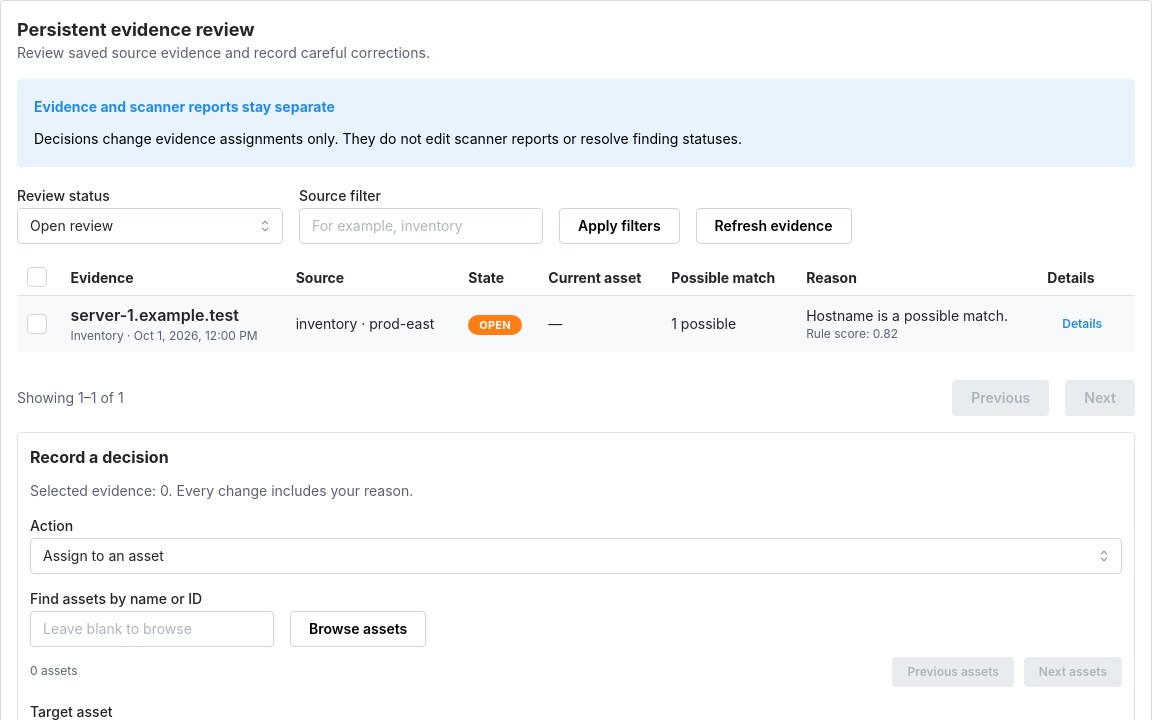
Scenario: PersistentReconciliation › reports stale decisions and does not retry them automatically
Check: the text "server-1.example.test" is shown, box [70,305,239,325]
Click the checkbox named "Select evidence from server-1.example.test".
click(37, 324)  # box [27,314,47,334]
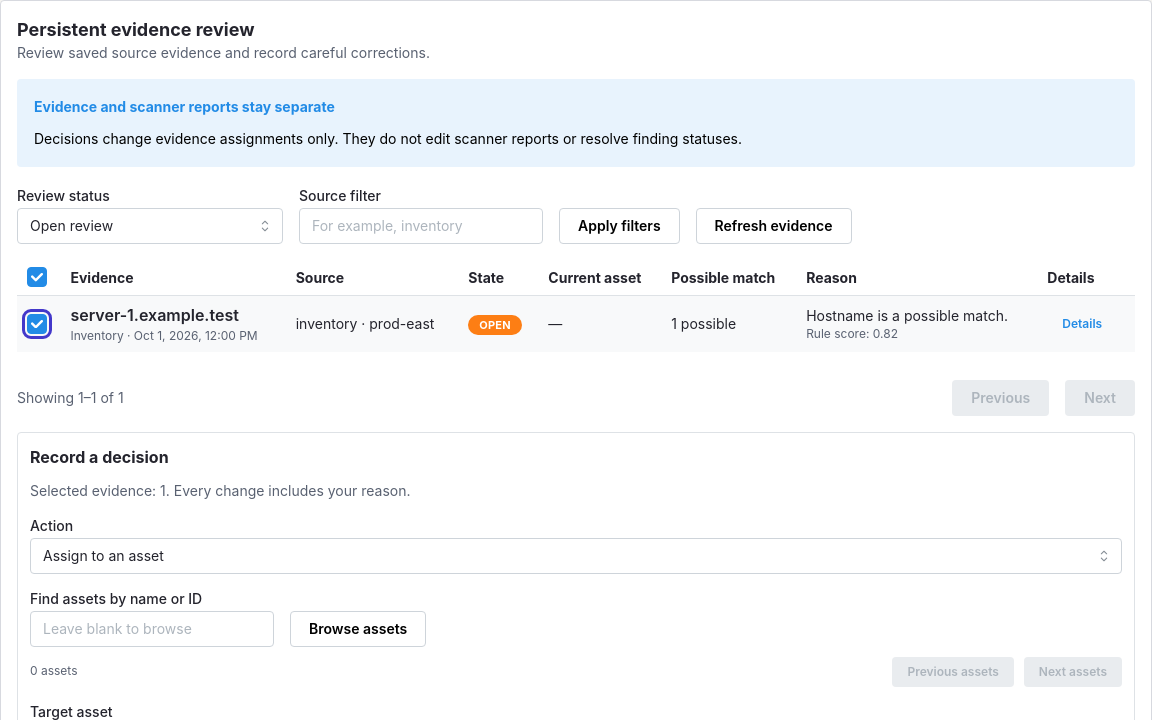
Click the field labelled "Action".
click(576, 556)  # box [30,538,1122,574]
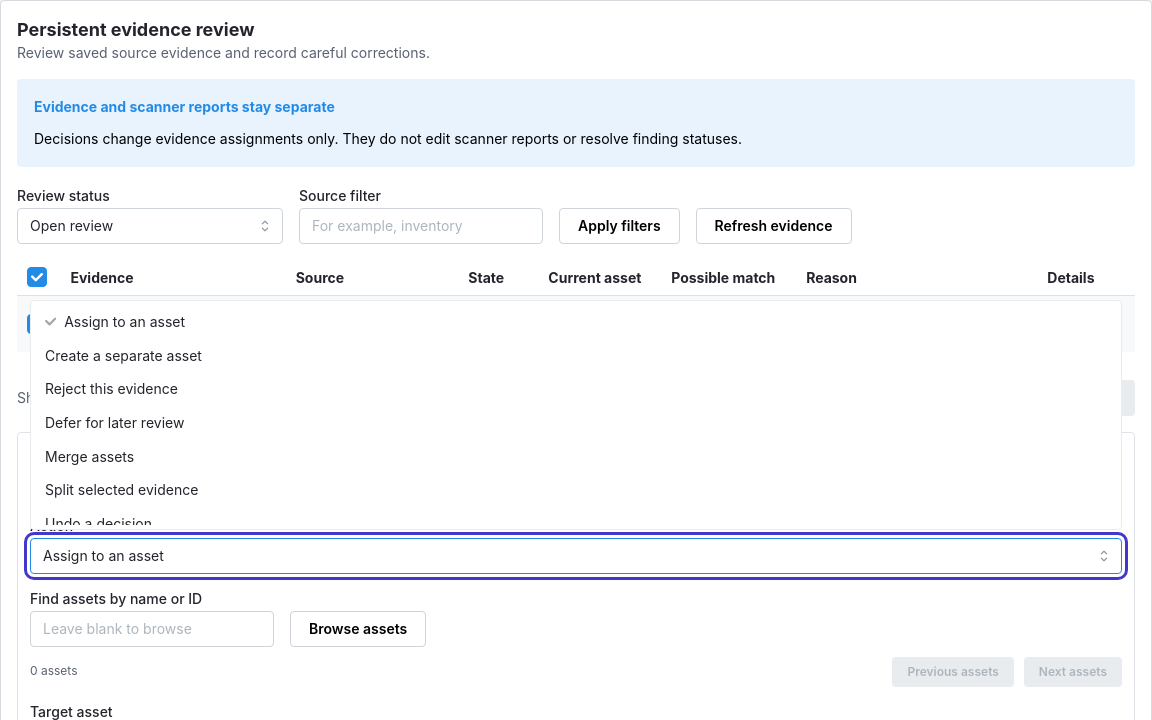
Click the option "Reject this evidence".
click(111, 389)  # box [45,380,178,397]
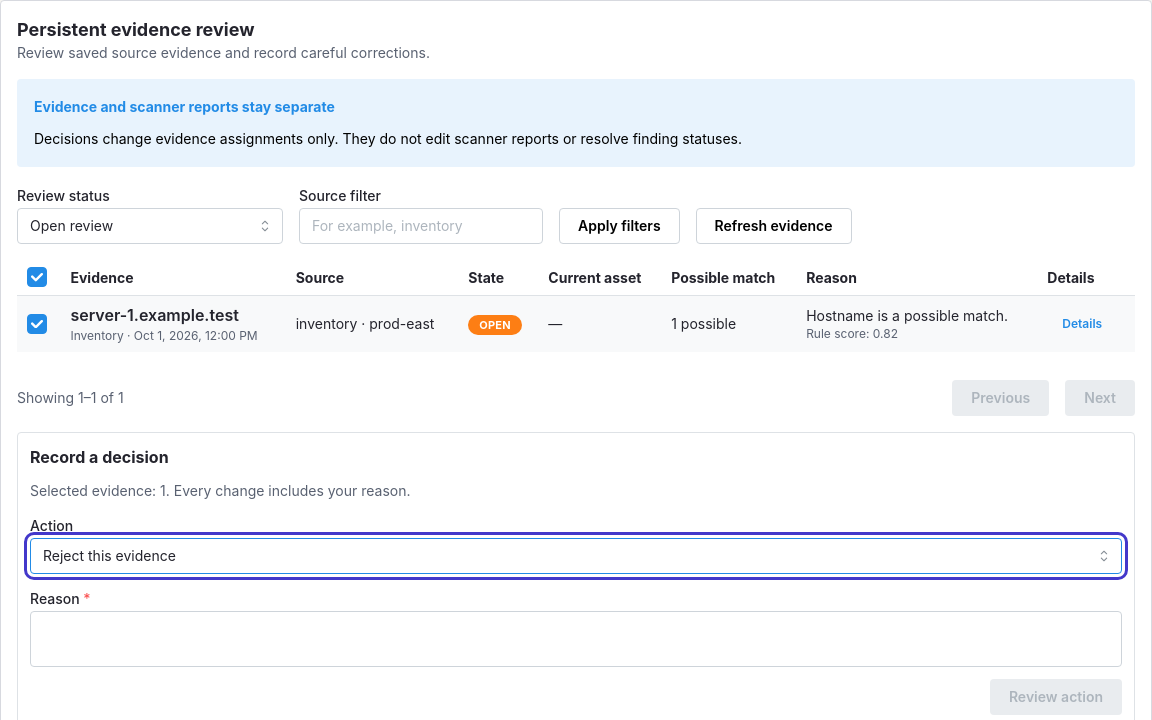
Type "Check the stale choice" into the text box labelled "Reason".
click(576, 639); type("Check the stale choice")  # box [30,611,1122,667]
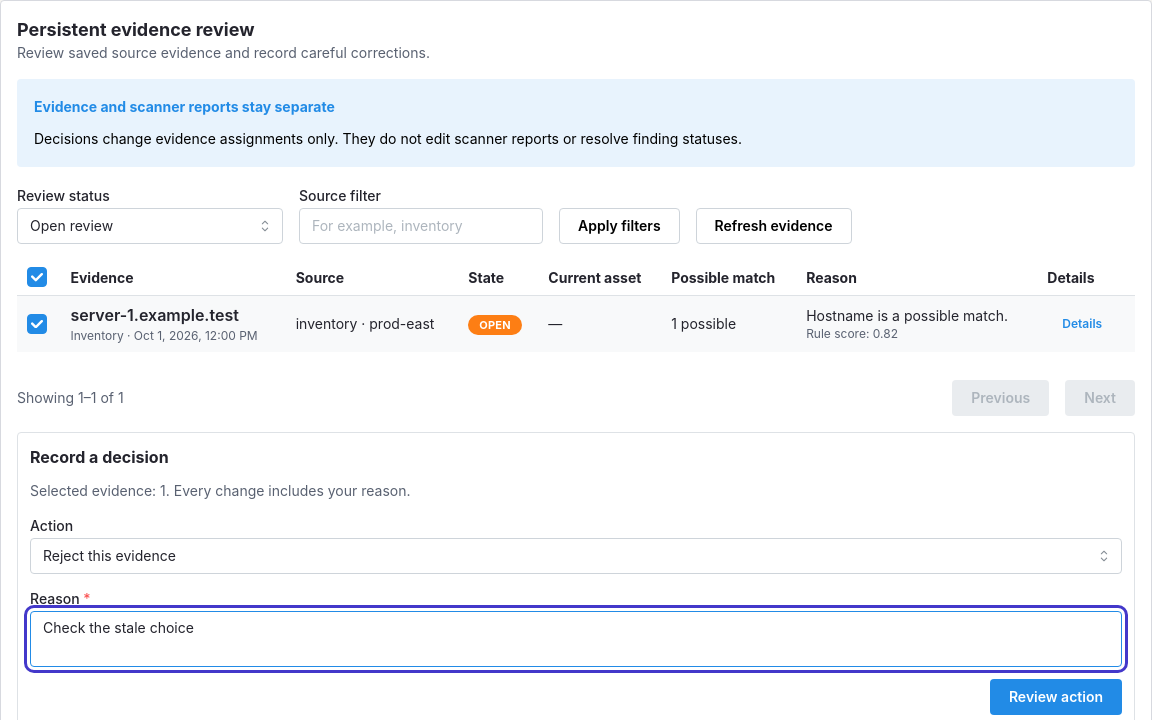
Click the button "Review action".
click(1056, 697)  # box [990,679,1122,715]
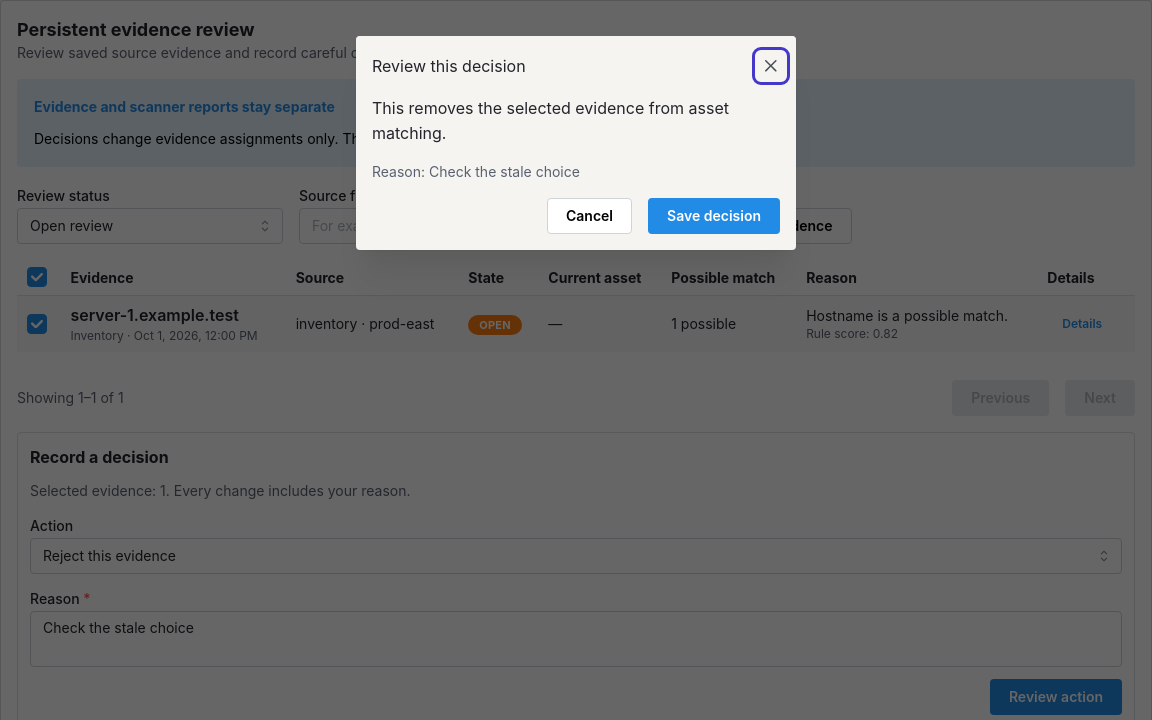
Click the button "Save decision".
click(714, 216)  # box [648,198,780,234]
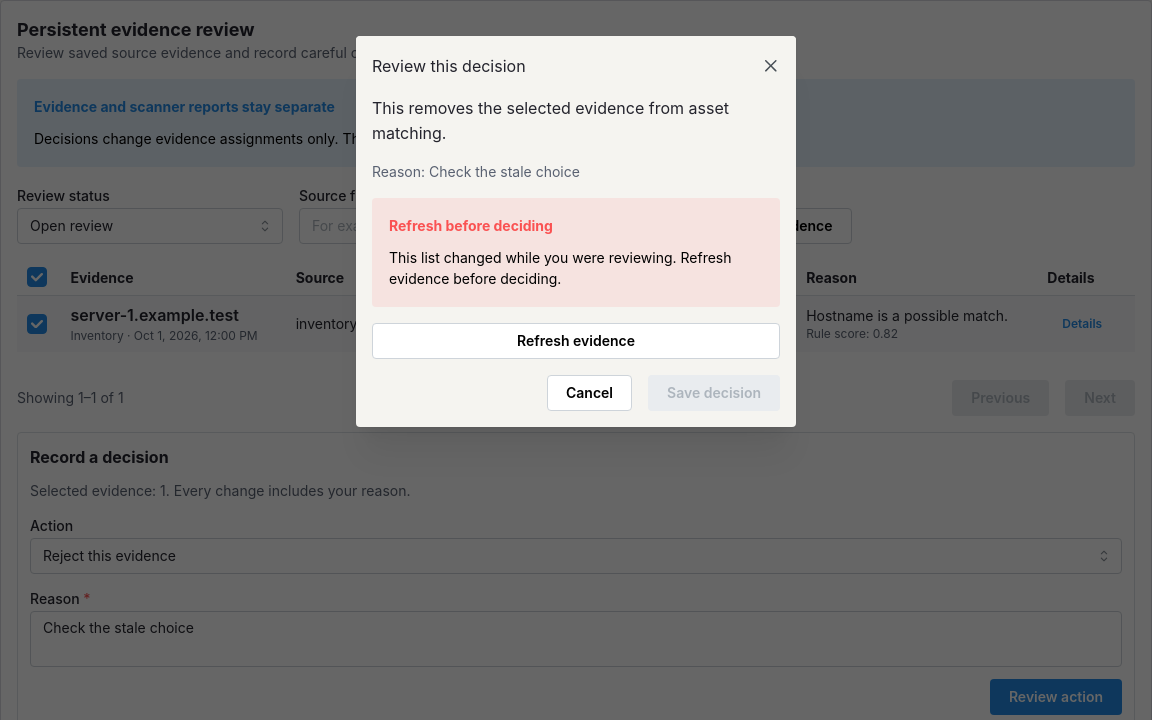
Check: the text "changed while you were reviewing" is shown, box [389,249,732,287]
Check: the number of buttons "Refresh evidence" is 2, box [696,208,852,244]; [372,323,780,359]
